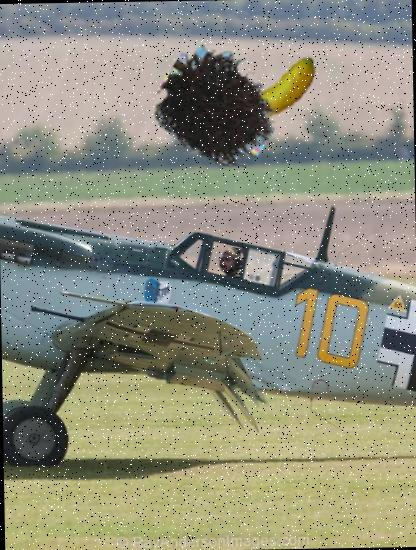Banana: (207, 30, 324, 147)
Rambutan: (157, 45, 280, 168)
